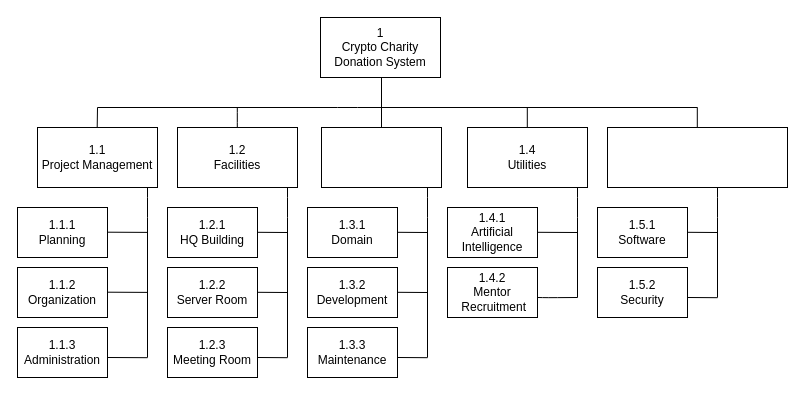
This 805x395 diagram has some shape labels left out. The shapes that lost their labels are listed below. From the top down, each one's box as (x1, y1, x2, y2) in pixels, then its label:
(320, 126, 442, 188): 1.3 Website
(606, 126, 788, 188): 1.5 Integration&Testing&Publishing
